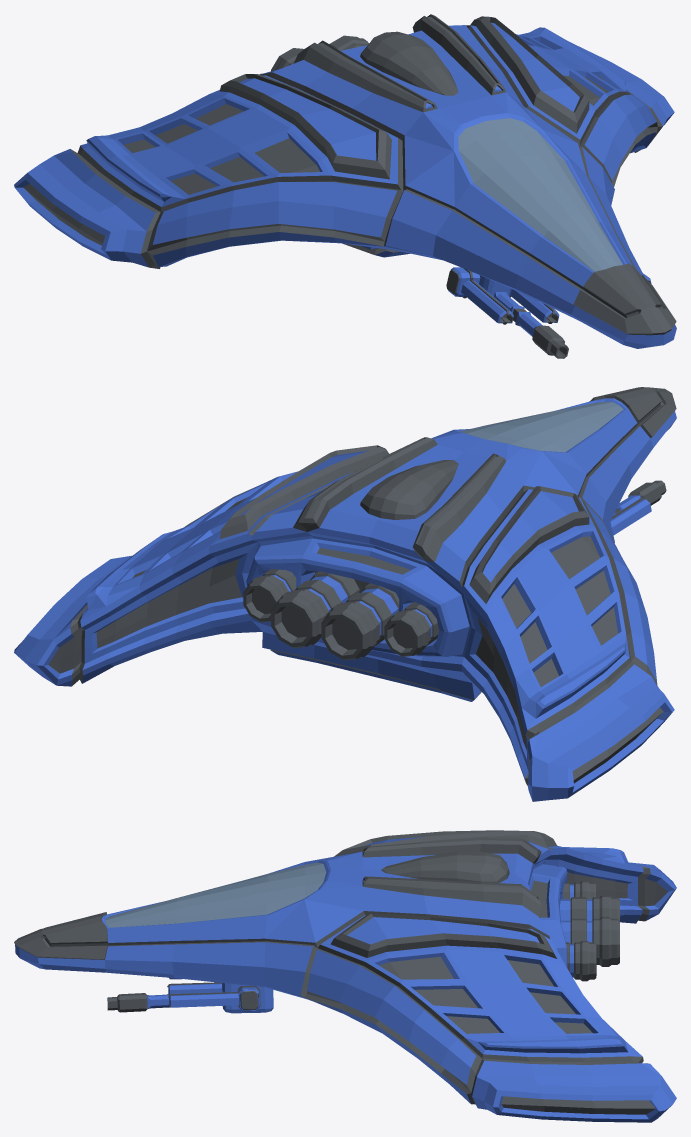
Rendered from Fighter_09_Blue.fbx.
3 renders of one model, top to bottom at view 1: azimuth 30°, elevation 25°; view 2: azimuth 150°, elevation 25°; view 3: azimuth 270°, elevation 25°, orthographic. The views are drawn at different scales.
Visible parts, largest first — view 1: Fighter_09_Blue; view 2: Fighter_09_Blue; view 3: Fighter_09_Blue.
Boxes of the visible parts, x1,y1,x2,y2 form: Fighter_09_Blue: (14,14,676,358); Fighter_09_Blue: (14,387,676,801); Fighter_09_Blue: (14,830,676,1122).
Bounding box in the file's own units: 1089 × 343 × 1256.
3 materials, 3 textured.
